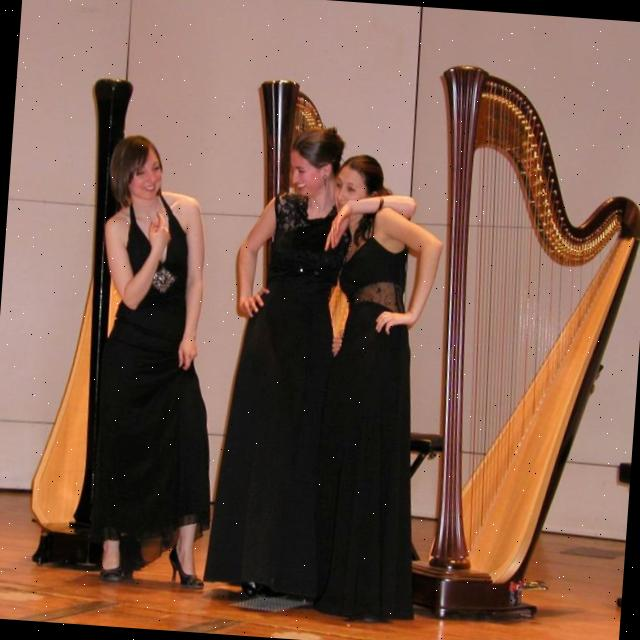harp: (403, 59, 640, 633), (19, 69, 150, 572), (242, 76, 329, 209)
